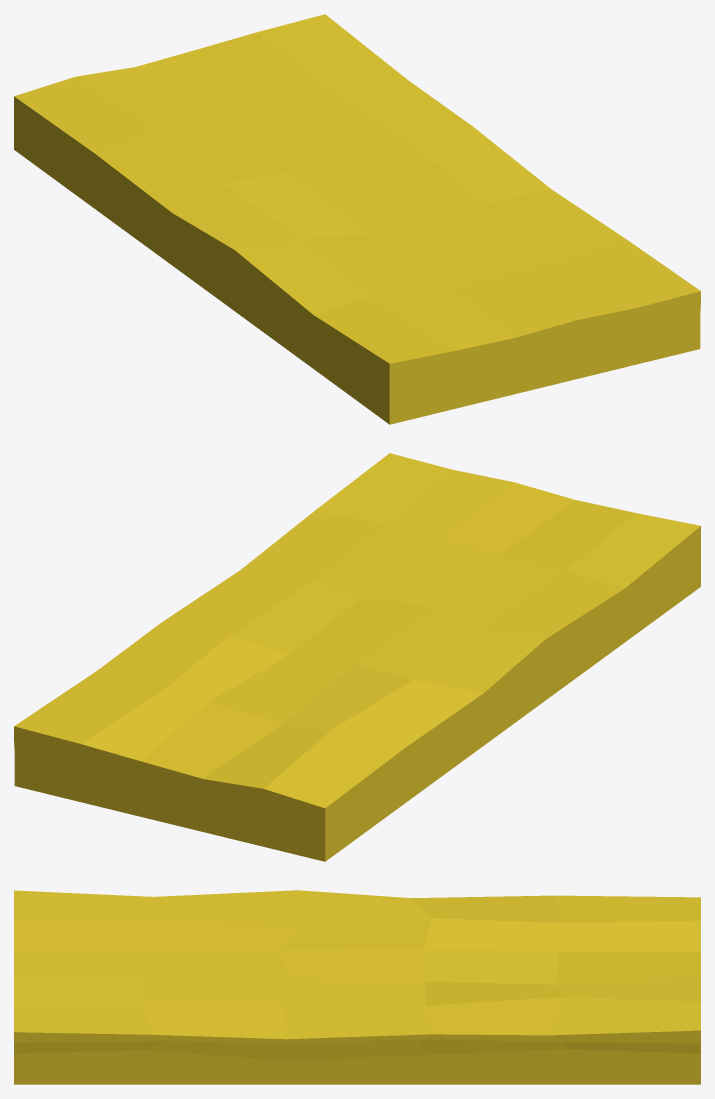
Rendered from pole.fbx.
3 renders of one model, top to bottom at view 1: azimuth 30°, elevation 25°; view 2: azimuth 150°, elevation 25°; view 3: azimuth 270°, elevation 25°, orthographic. The views are drawn at different scales.
Parts seen in each view (by area): view 1: Cube; view 2: Cube; view 3: Cube.
Boxes of the visible parts, box(x1,y1,x2,y2) form: Cube: box(14, 14, 700, 424); Cube: box(14, 453, 700, 861); Cube: box(14, 890, 700, 1084).
Size of the model in its own units: 2.5 by 0.4705 by 5.23.
